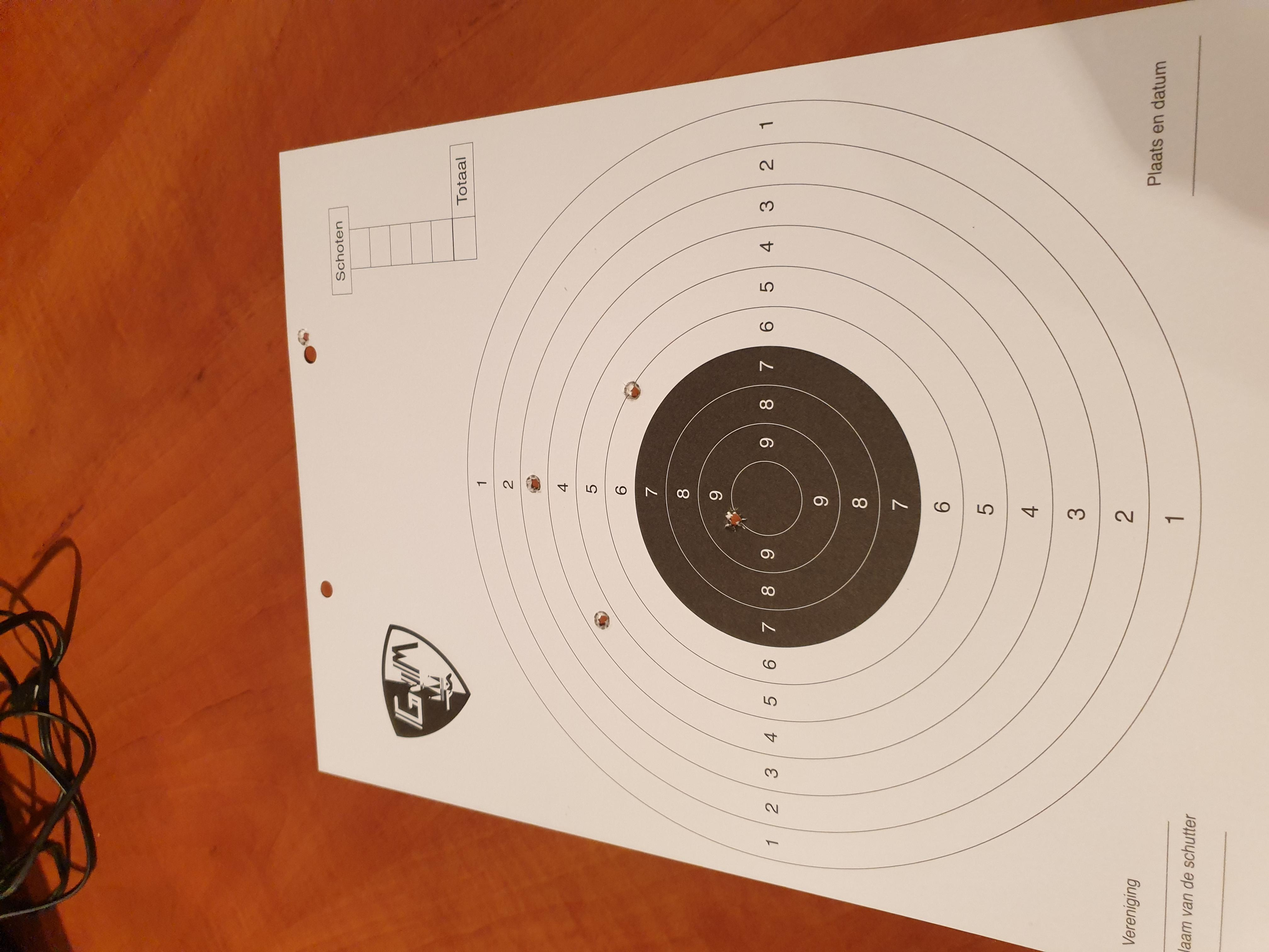hole: (558, 542, 593, 561), (733, 465, 762, 483), (428, 444, 456, 459), (610, 393, 638, 407), (807, 221, 834, 233)
